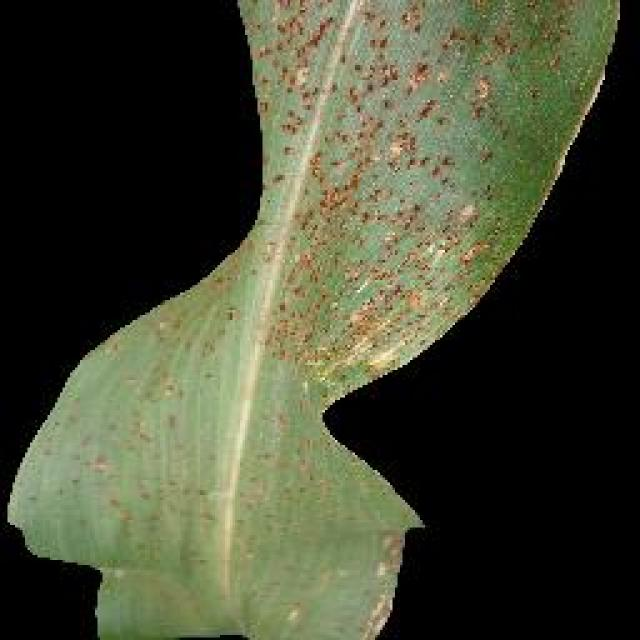Corn Common Rust: (184, 22, 514, 350)
